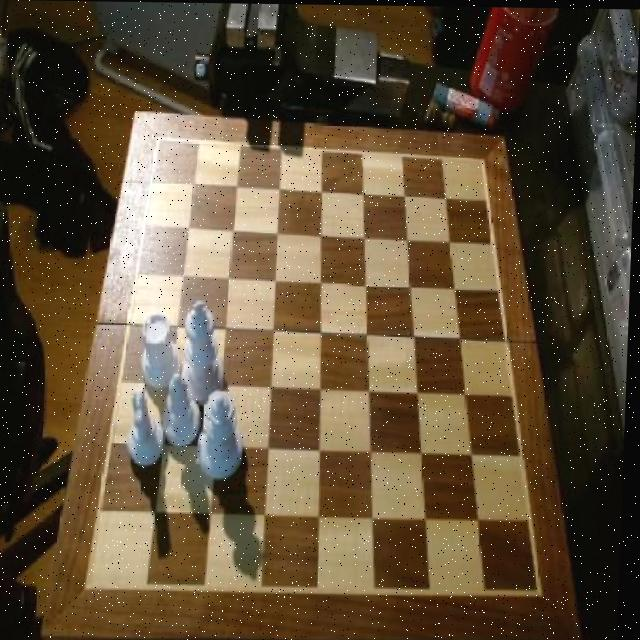black-rook: (166, 373, 205, 448)
white-bishop: (182, 298, 230, 402)
white-king: (129, 385, 170, 467)
white-pawn: (199, 390, 249, 482)
white-queen: (141, 311, 187, 390)
